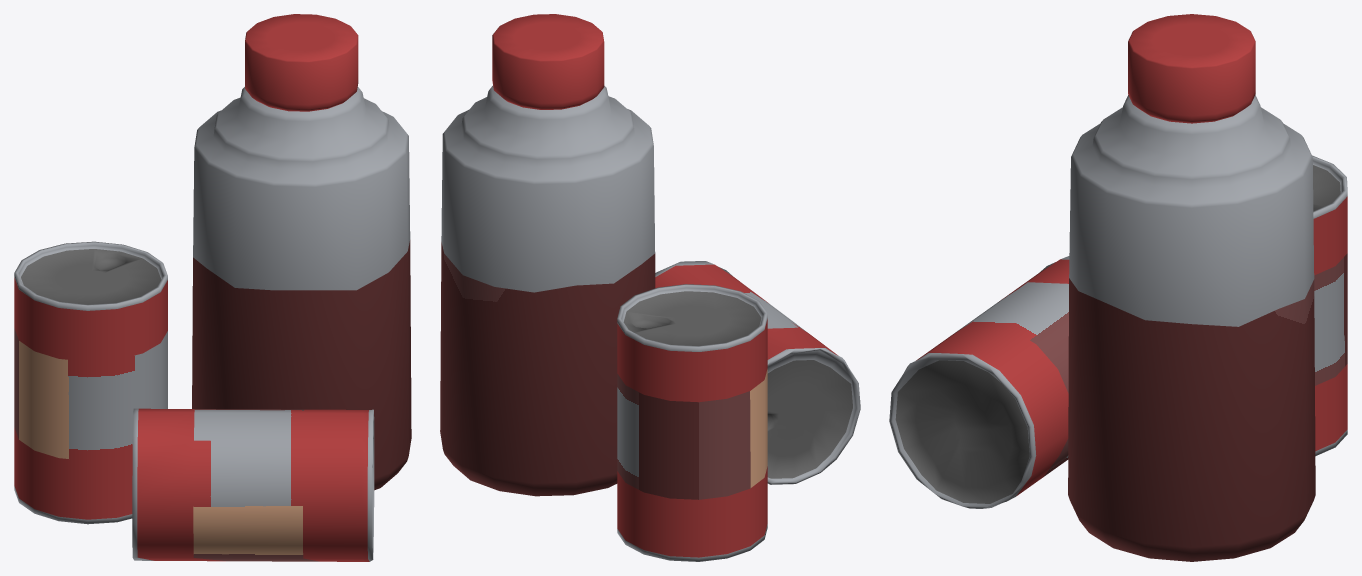
The model's file is Item_01.fbx.
The picture shows the model from 3 angles, left to right: view 1: azimuth 30°, elevation 25°; view 2: azimuth 150°, elevation 25°; view 3: azimuth 270°, elevation 25°; orthographic projection. The views are drawn at different scales.
Parts seen in each view (by area): view 1: Item_Botella; view 2: Item_Botella; view 3: Item_Botella.
Part boxes in pixels (x1,y1,x2,y2): Item_Botella: (14,14,411,561); Item_Botella: (440,14,860,561); Item_Botella: (889,14,1347,561).
Size of the model in its own units: 59.32 by 72.39 by 62.02.
